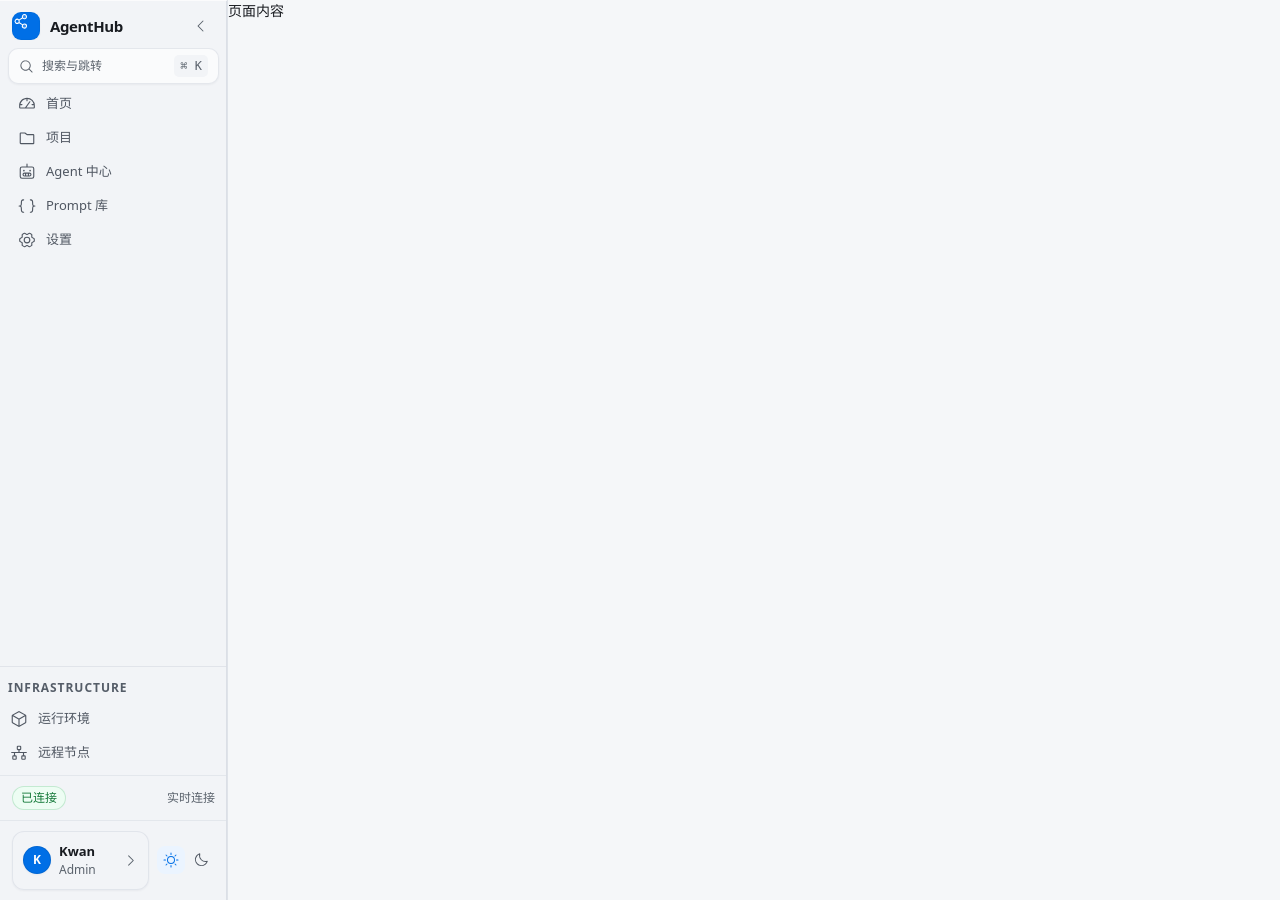
Test: AppShell › 按六个业务分组展示命令面板并支持模糊搜索和键盘打开
This screenshot has width=1280, height=900.
Click the button "搜索与跳转 ⌘ K" at (114, 66), box [8,48,219,84]
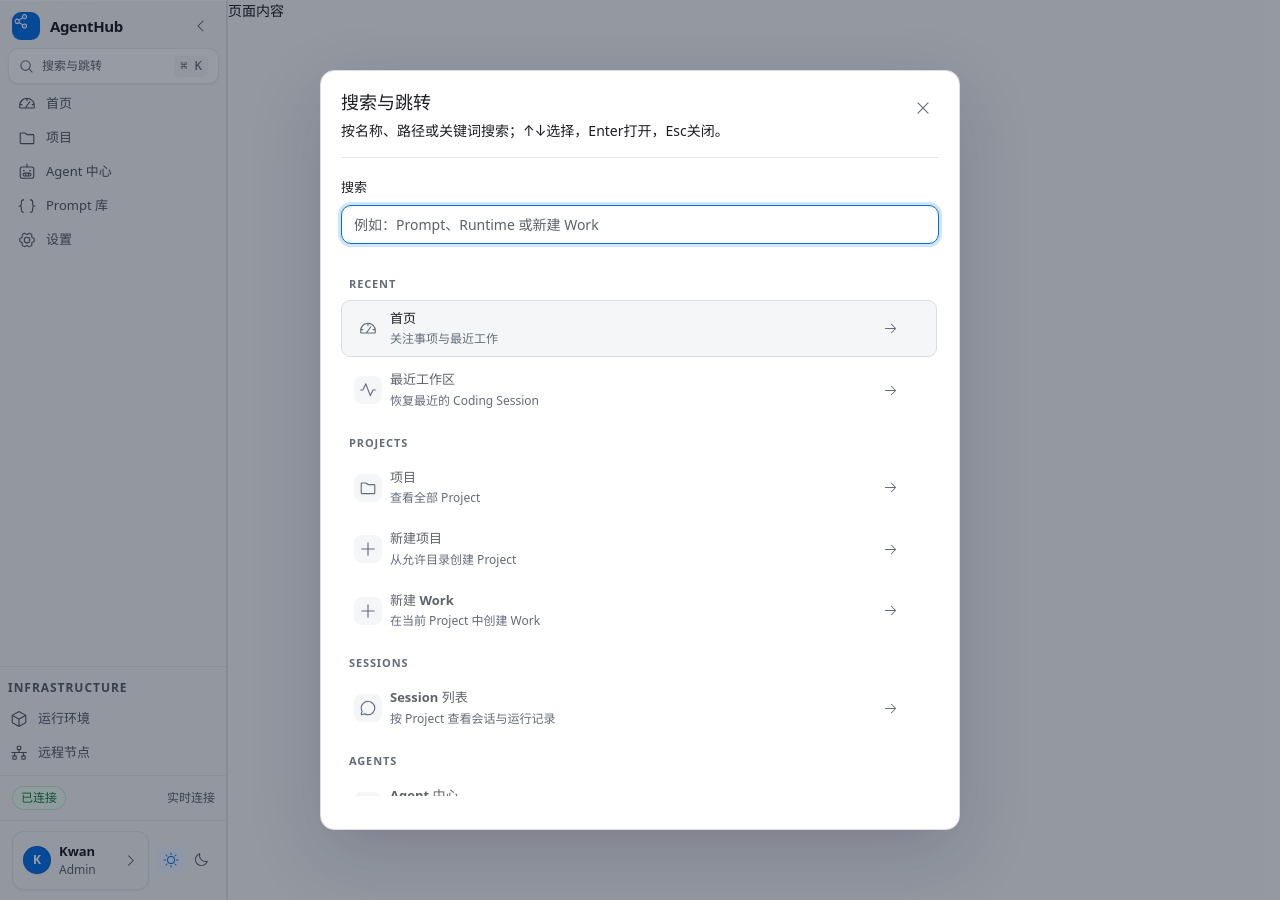
Expected: the element "Recent" is shown, [341,276,937,419]
Expected: the element "Projects" is shown, [341,435,937,639]
Expected: the element "Sessions" is shown, [341,655,937,737]
Type "项目" into the dropdown labelled "搜索" at (640, 224), box [341,205,939,244]
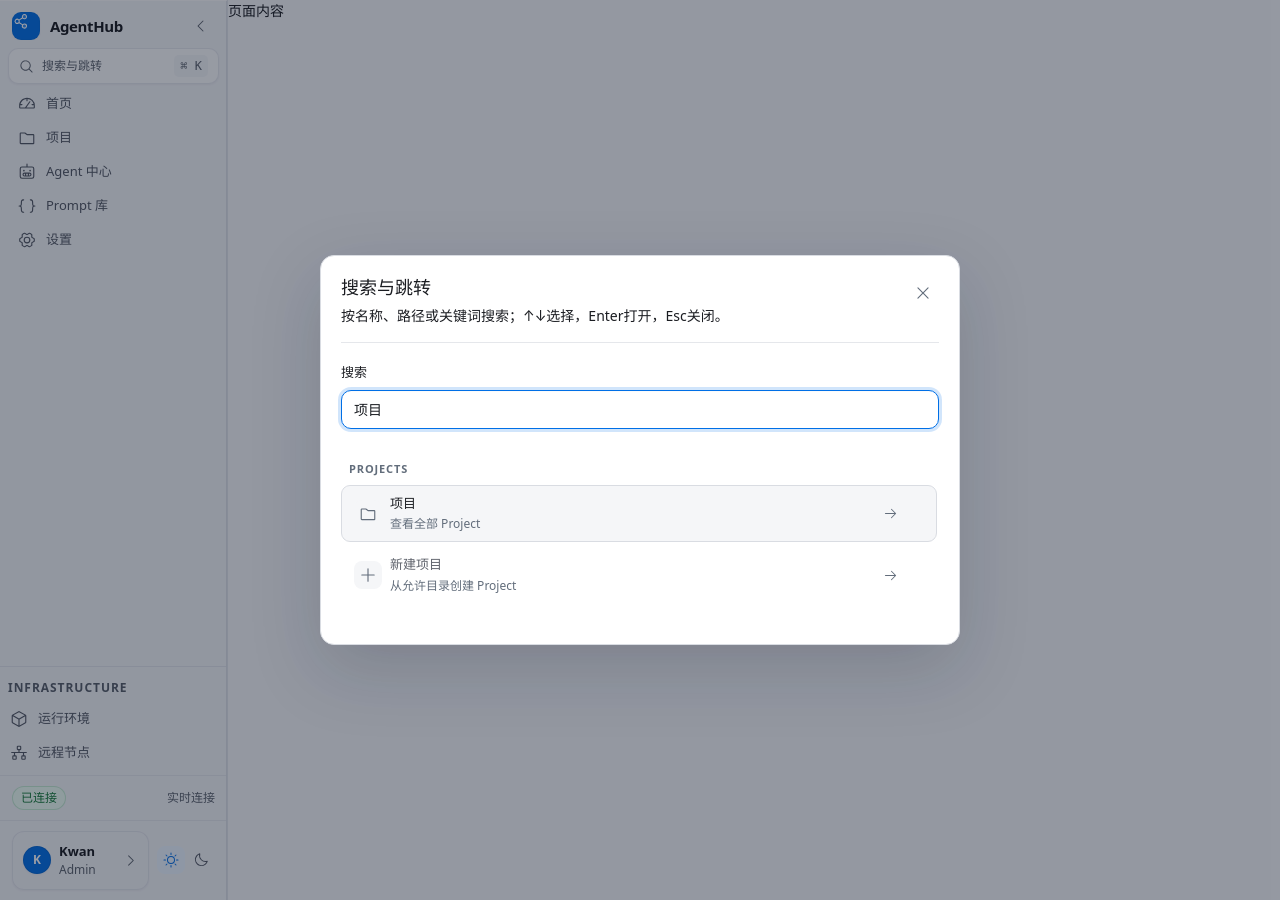
Expected: the option "项目 查看全部 Project" is shown, [341,485,937,542]
Press Enter in the dropdown labelled "搜索", box [341,390,939,429]
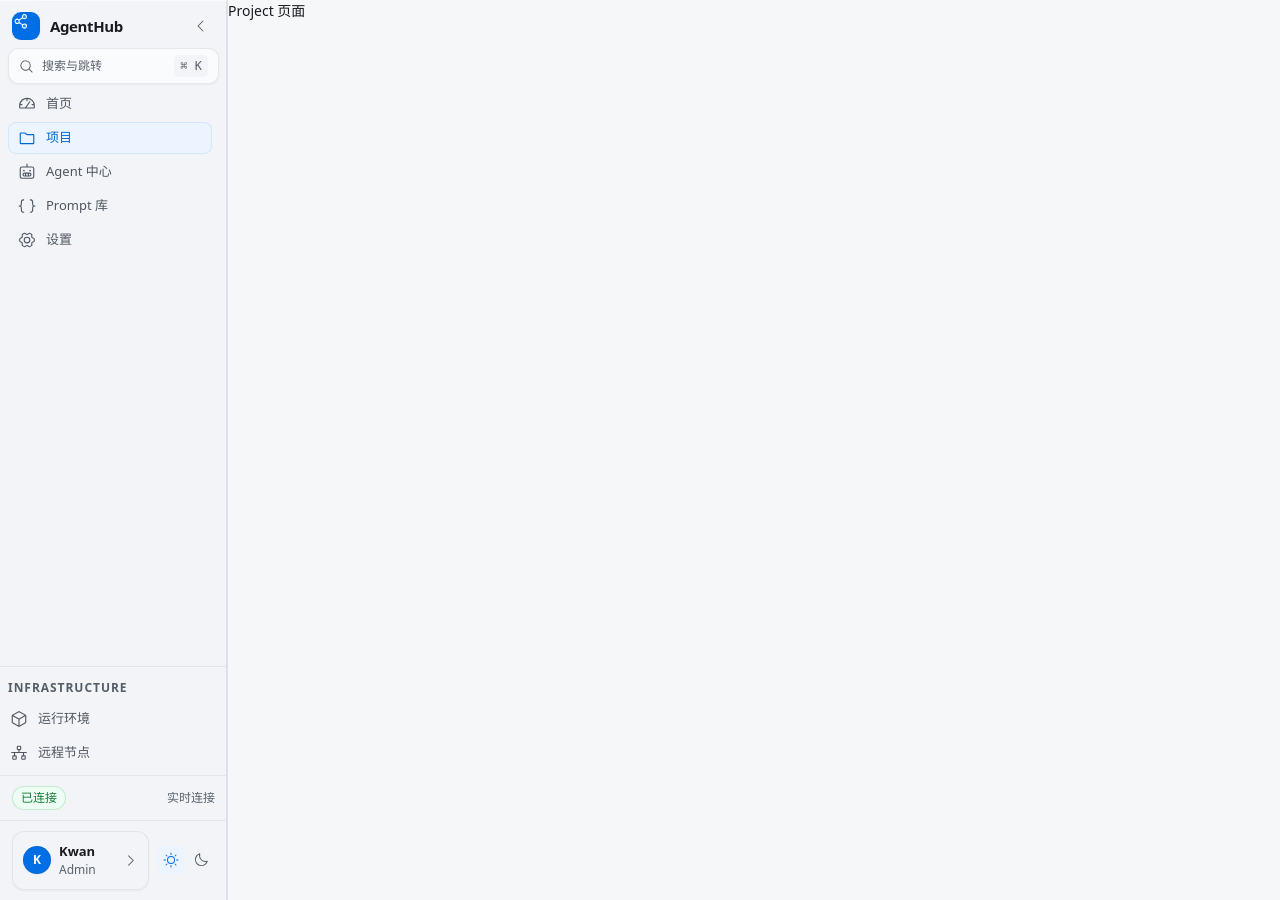
Expected: the heading "Project 页面" is shown, [228,1,305,20]
